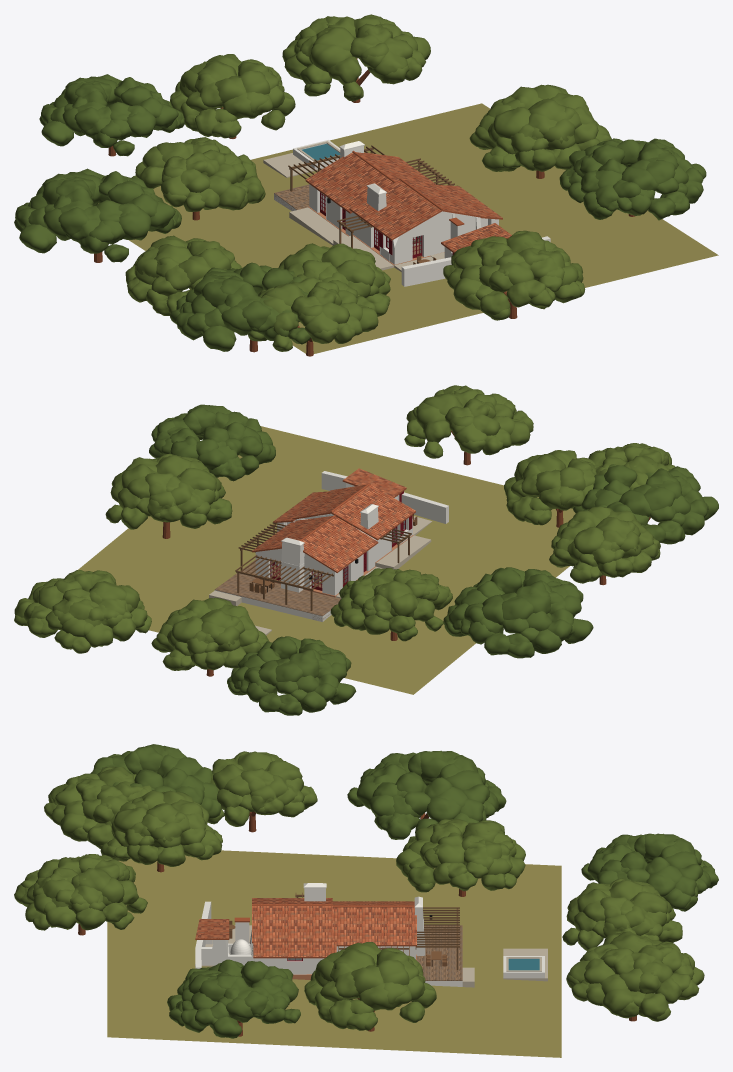
The model's file is villa2.glb.
The picture shows the model from 3 angles, top to bottom: view 1: azimuth 30°, elevation 25°; view 2: azimuth 150°, elevation 25°; view 3: azimuth 270°, elevation 25°; orthographic projection. The views are drawn at different scales.
Visible parts, largest first — view 1: ground_patch, tree10_cork_crown4, tree4_cork_crown4, tree3_cork_crown3, roof, tree7_cork_crown3, tree5_cork_crown5, tree6_cork_crown4, tree8_cork_crown5, tree1_cork_crown4, tree0_cork_crown3, tree9_cork_crown3 (+8 smaller); view 2: ground_patch, tree10_cork_crown4, tree7_cork_crown3, roof, tree6_cork_crown4, tree5_cork_crown5, tree3_cork_crown3, tree1_cork_crown4, tree4_cork_crown4, tree0_cork_crown3, tree11_cork_crown5, tree8_cork_crown5 (+9 smaller); view 3: ground_patch, tree10_cork_crown4, roof, tree7_cork_crown3, tree5_cork_crown5, tree3_cork_crown3, tree4_cork_crown4, tree0_cork_crown3, tree2_cork_crown5, tree6_cork_crown4, tree8_cork_crown5, tree11_cork_crown5 (+6 smaller).
Boxes of the visible parts, x1,y1,x2,y2 form: ground_patch: [98, 103, 718, 353]; tree10_cork_crown4: [14, 168, 181, 262]; tree4_cork_crown4: [559, 138, 706, 220]; tree3_cork_crown3: [443, 230, 585, 320]; roof: [305, 152, 511, 252]; tree7_cork_crown3: [282, 14, 430, 101]; tree5_cork_crown5: [469, 84, 611, 171]; tree6_cork_crown4: [39, 74, 184, 156]; tree8_cork_crown5: [170, 54, 295, 138]; tree1_cork_crown4: [170, 262, 310, 351]; tree0_cork_crown3: [131, 137, 265, 211]; tree9_cork_crown3: [248, 274, 378, 351]; ground_patch: [78, 426, 575, 694]; tree10_cork_crown4: [443, 567, 593, 658]; tree7_cork_crown3: [14, 570, 151, 653]; roof: [252, 468, 415, 572]; tree6_cork_crown4: [227, 636, 356, 715]; tree5_cork_crown5: [105, 453, 232, 529]; tree3_cork_crown3: [404, 385, 533, 458]; tree1_cork_crown4: [573, 462, 718, 544]; tree4_cork_crown4: [149, 404, 275, 481]; tree0_cork_crown3: [330, 568, 452, 641]; tree11_cork_crown5: [549, 506, 660, 583]; tree8_cork_crown5: [151, 597, 269, 670]; ground_patch: [107, 850, 561, 1057]; tree10_cork_crown4: [347, 750, 506, 839]; roof: [195, 898, 416, 958]; tree7_cork_crown3: [566, 931, 704, 1021]; tree5_cork_crown5: [304, 942, 436, 1030]; tree3_cork_crown3: [14, 854, 147, 930]; tree4_cork_crown4: [167, 959, 300, 1038]; tree0_cork_crown3: [396, 819, 525, 892]; tree2_cork_crown5: [100, 790, 222, 866]; tree6_cork_crown4: [581, 833, 718, 911]; tree8_cork_crown5: [562, 878, 682, 950]; tree11_cork_crown5: [208, 751, 317, 826].
Bounding box in the file's own units: 62.03 × 10.38 × 68.24.
26 materials, 2 textured.
